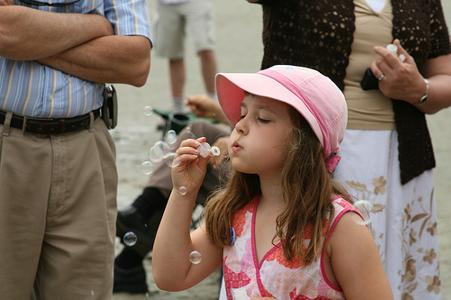person: (150, 64, 397, 300)
